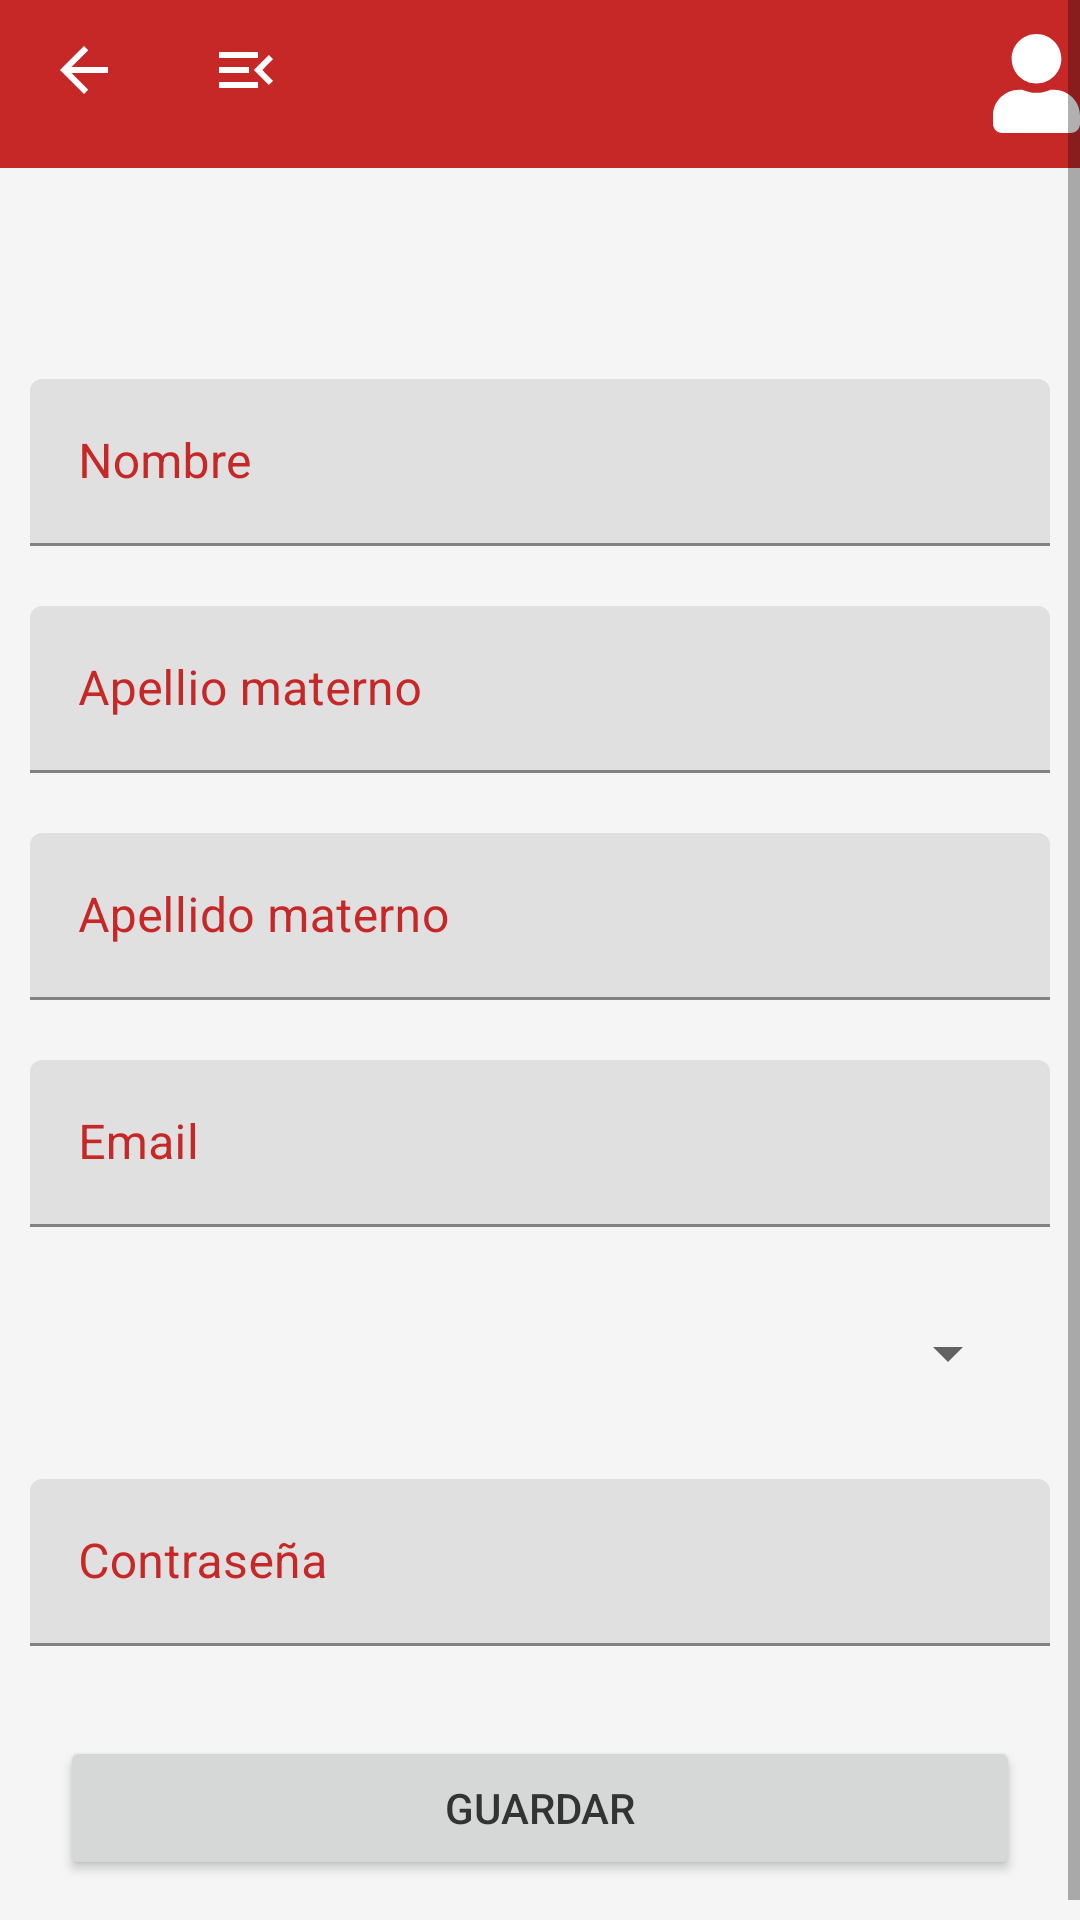

Screen size 1080 × 1920. Icon name, then its center in pixels as (x,y):
arrow back: (84,70)
user: (1036,83)
